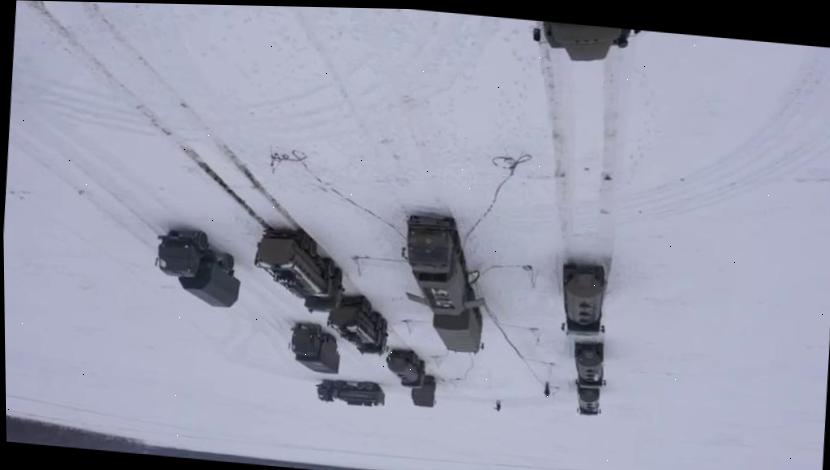person: (542, 381, 552, 397), (493, 398, 501, 411)
truck: (395, 211, 493, 316), (250, 223, 349, 315), (152, 224, 244, 309), (325, 291, 392, 356), (555, 259, 610, 337), (287, 319, 342, 374), (430, 307, 486, 358), (314, 375, 387, 409), (382, 346, 428, 390), (571, 339, 608, 390), (573, 378, 602, 417), (408, 376, 439, 411)
